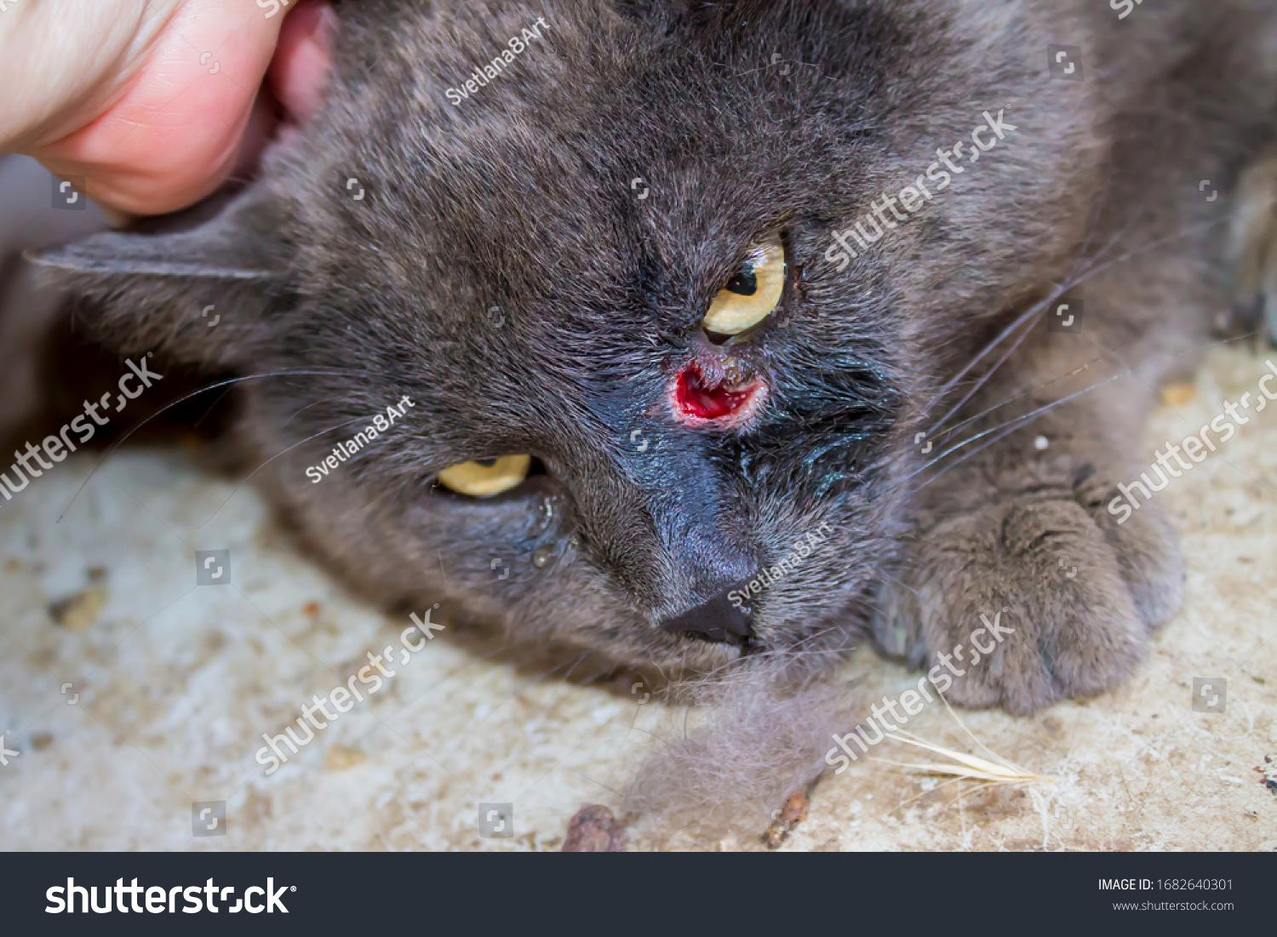cut: (532, 337, 877, 500)
